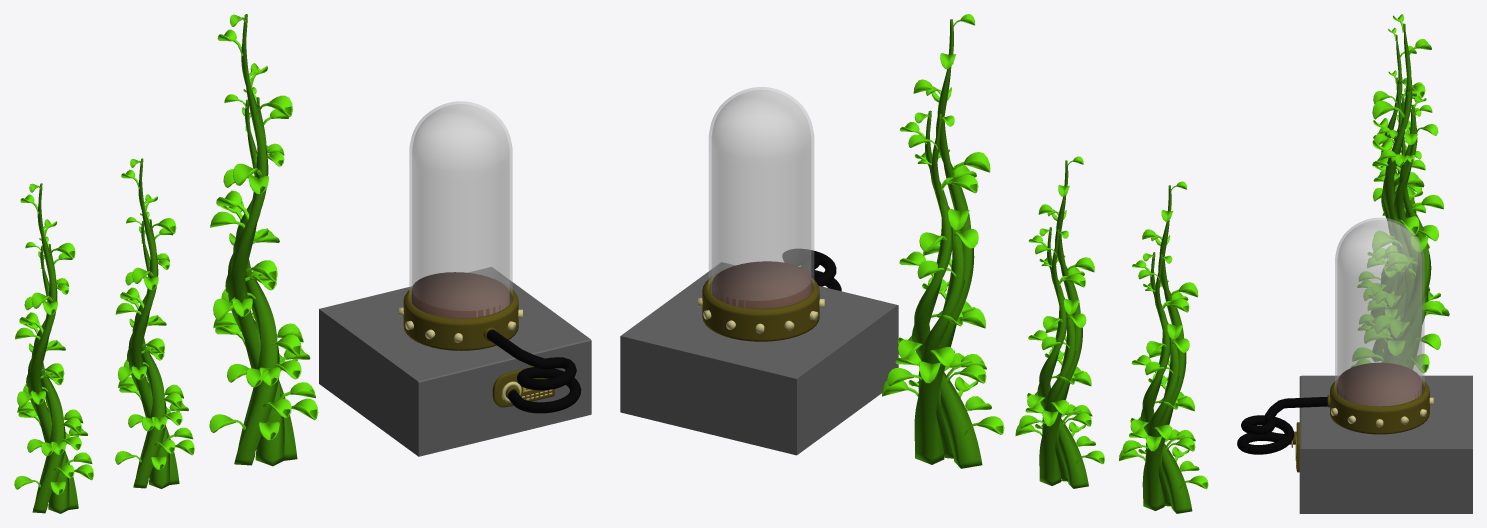
Rendered from plantPod_edit_for_FBX.fbx.
The picture shows the model from 3 angles, left to right: view 1: azimuth 30°, elevation 25°; view 2: azimuth 150°, elevation 25°; view 3: azimuth 270°, elevation 25°; orthographic projection. The views are drawn at different scales.
Visible parts, largest first — view 1: Cylinder01, Plants03, Plants01, Plants02; view 2: Cylinder01, Plants03, Plants02, Plants01; view 3: Cylinder01, Plants03, Plants01, Plants02.
Part boxes in pixels (x1=…): Cylinder01: x1=319, y1=101, x2=591, y2=456; Plants03: x1=209, y1=14, x2=318, y2=466; Plants01: x1=14, y1=183, x2=93, y2=513; Plants02: x1=115, y1=158, x2=194, y2=488; Cylinder01: x1=620, y1=87, x2=898, y2=455; Plants03: x1=882, y1=14, x2=1004, y2=468; Plants02: x1=1015, y1=156, x2=1104, y2=488; Plants01: x1=1119, y1=181, x2=1208, y2=513; Cylinder01: x1=1237, y1=218, x2=1472, y2=513; Plants03: x1=1351, y1=14, x2=1449, y2=372; Plants01: x1=1357, y1=27, x2=1429, y2=317; Plants02: x1=1358, y1=70, x2=1429, y2=361.
Size of the model in its own units: 1323 by 1077 by 593.
